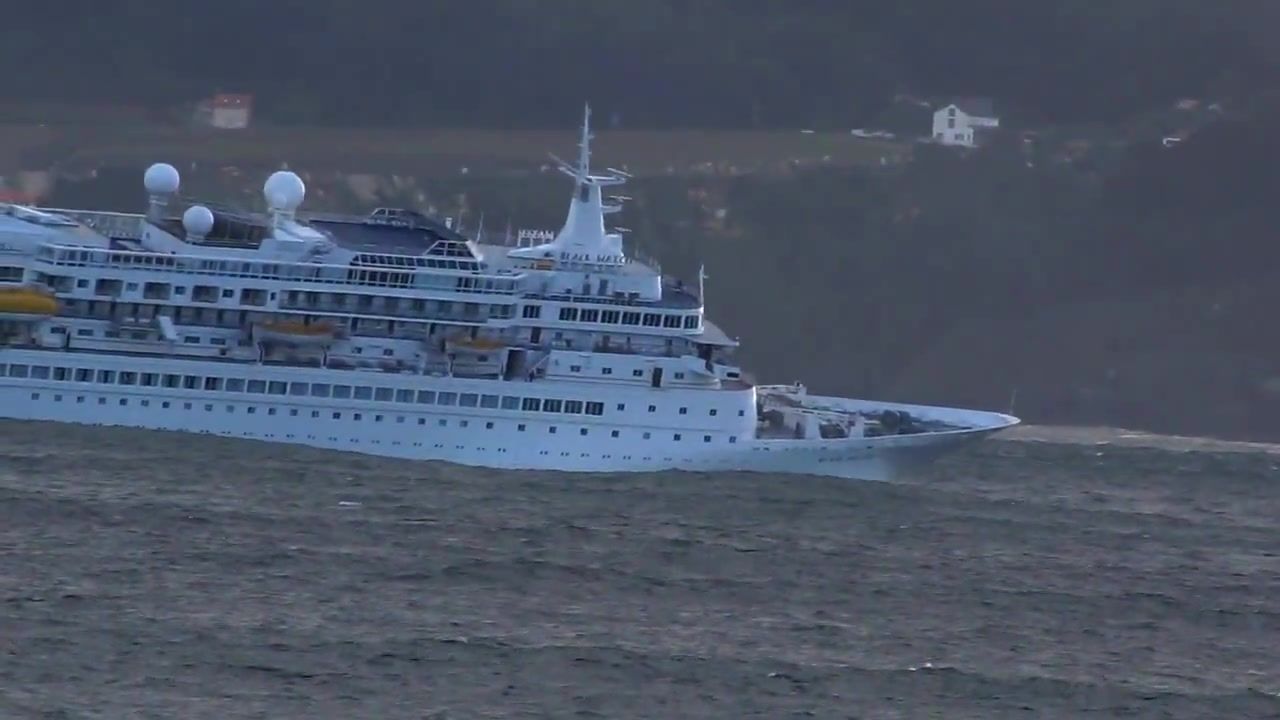boat: (2, 97, 1025, 486)
